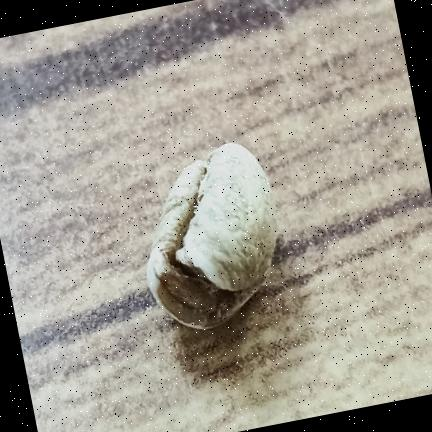cut: (147, 143, 276, 329)
